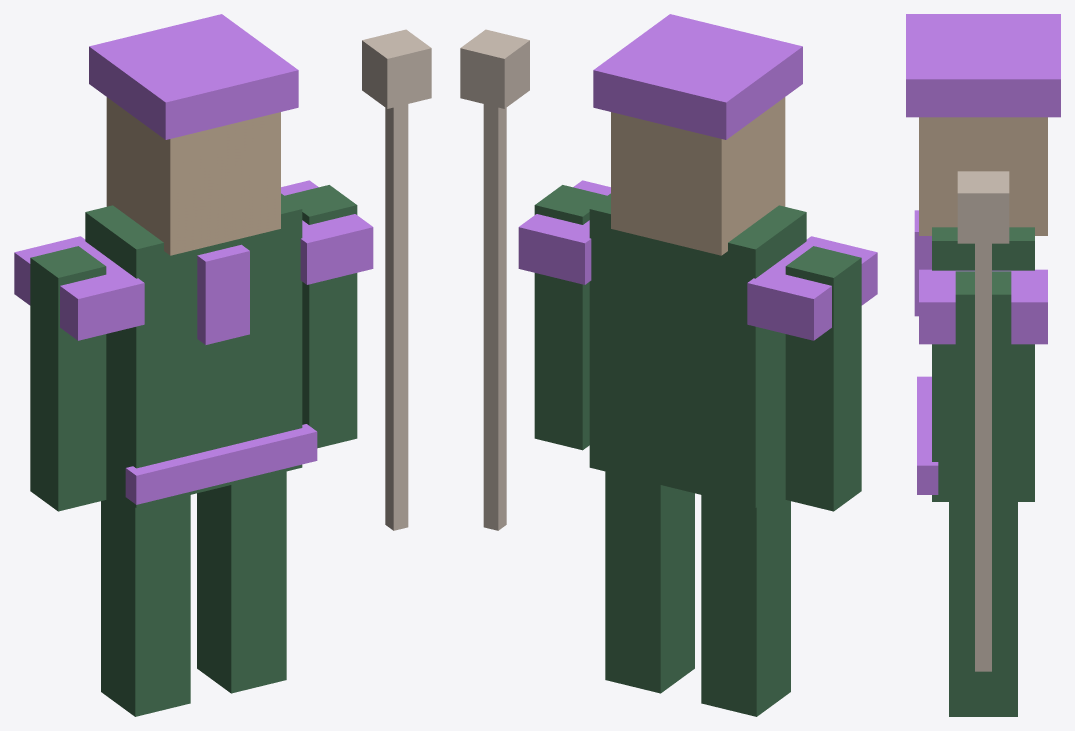
The model's file is 12_calder_dubwater_tactician_under_meditation.glb.
The picture shows the model from 3 angles, left to right: view 1: azimuth 30°, elevation 25°; view 2: azimuth 150°, elevation 25°; view 3: azimuth 270°, elevation 25°; orthographic projection.
Visible parts, largest first — view 1: Calder Dubwater, Tactician under Meditation; view 2: Calder Dubwater, Tactician under Meditation; view 3: Calder Dubwater, Tactician under Meditation.
Part boxes in pixels (x1=…): Calder Dubwater, Tactician under Meditation: x1=14, y1=14, x2=431, y2=716; Calder Dubwater, Tactician under Meditation: x1=460, y1=14, x2=877, y2=716; Calder Dubwater, Tactician under Meditation: x1=906, y1=14, x2=1060, y2=716.
Size of the model in its own units: 0.9894 by 1.58 by 0.3509.
